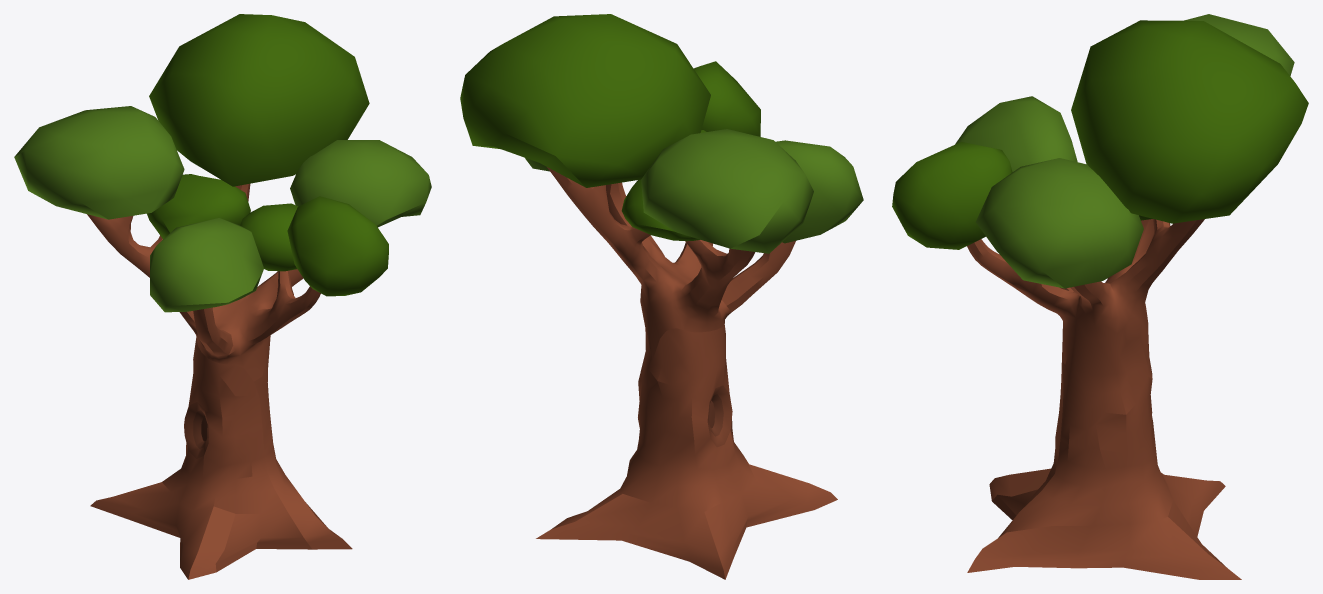
The model's file is Tree1.fbx.
The picture shows the model from 3 angles, left to right: view 1: azimuth 30°, elevation 25°; view 2: azimuth 150°, elevation 25°; view 3: azimuth 270°, elevation 25°; orthographic projection. The views are drawn at different scales.
Parts seen in each view (by area): view 1: Plane.001; view 2: Plane.001; view 3: Plane.001.
Boxes of the visible parts, x1,y1,x2,y2 form: Plane.001: [14, 14, 431, 579]; Plane.001: [460, 14, 863, 579]; Plane.001: [892, 14, 1308, 579].
Bounding box in the file's own units: 9.47 × 12.74 × 8.87.
